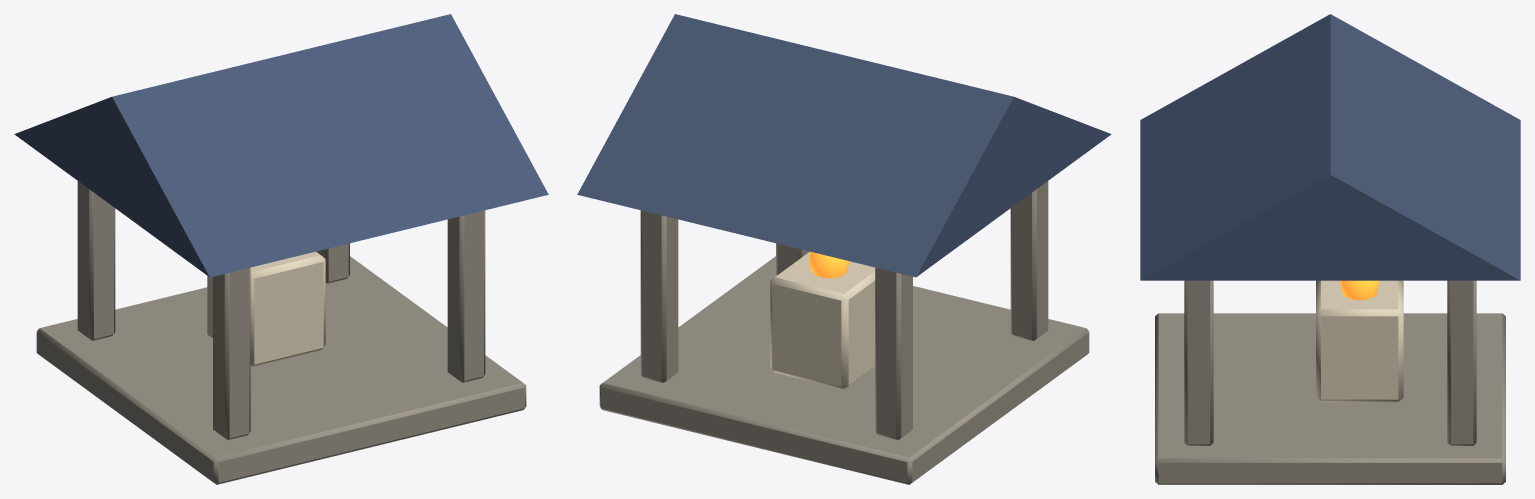
File: shrine.glb
3 renders of one model, left to right at view 1: azimuth 30°, elevation 25°; view 2: azimuth 150°, elevation 25°; view 3: azimuth 270°, elevation 25°, orthographic. The views are drawn at different scales.
Visible parts, largest first — view 1: building; view 2: building; view 3: building.
Boxes of the visible parts, left/top/right/bottom form: building: left=14, top=14, right=548, bottom=484; building: left=577, top=14, right=1111, bottom=484; building: left=1140, top=14, right=1520, bottom=484.
Bounding box in the file's own units: 2.6 × 2.4 × 2.6.
